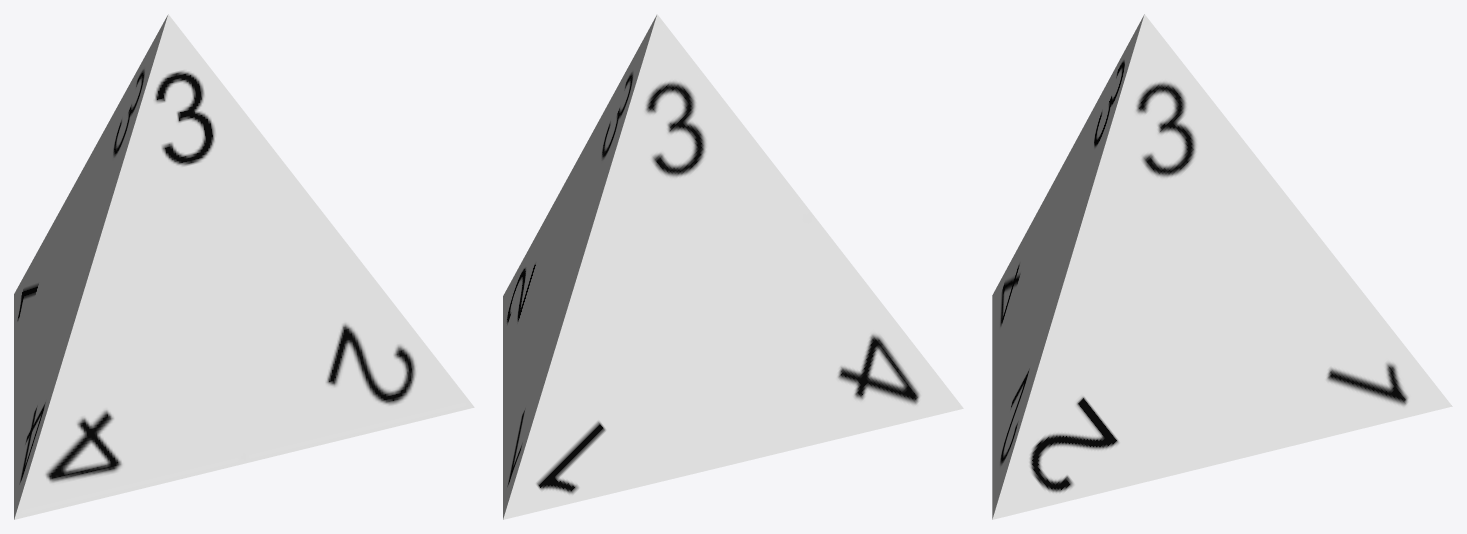
The picture shows the model from 3 angles, left to right: view 1: azimuth 30°, elevation 25°; view 2: azimuth 150°, elevation 25°; view 3: azimuth 270°, elevation 25°; orthographic projection.
Parts seen in each view (by area): view 1: Cube; view 2: Cube; view 3: Cube.
Boxes of the visible parts, box(x1,y1,x2,y2) form: Cube: box(14, 14, 474, 519); Cube: box(503, 14, 963, 519); Cube: box(992, 14, 1452, 519).
Bounding box in the file's own units: 283 × 231 × 245.
